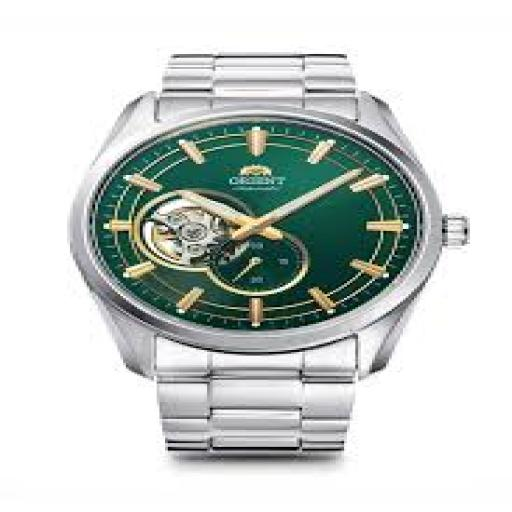KolSaati: (49, 37, 497, 469)
